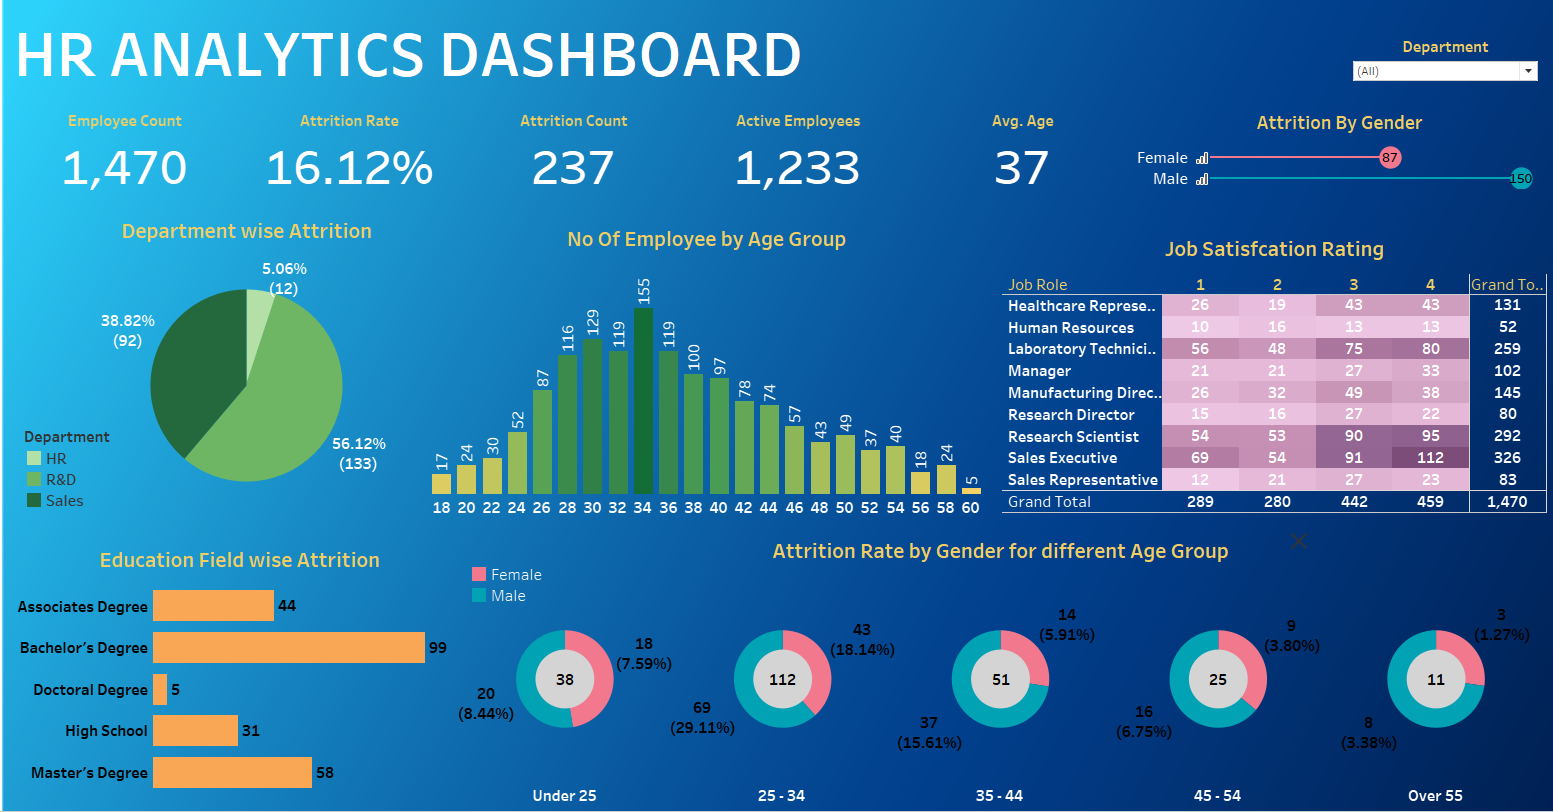

The page's visual inventory and layout, read from the dashboard file:
{"tool":"tableau","page":{"name":"HR ANALYTICS DASHBOARD","canvas":[1600,900],"ordinal":0},"visuals":[{"type":"image","param":"Image/blue bg.jpg","box":[8,8,1584,884]},{"type":"text","box":[30,36,915,59]},{"type":"filter","title":"Department wise Attrition","param":"[federated.13vzncc0yve2qy11549g20t2ub8v].[none:Department:nk]","box":[1370,50,191,63]},{"type":"worksheet","title":"Attrition By Gender","mark":"Automatic","rows":["Gender"],"cols":["Calculation_796855722364133376","Calculation_796855722364133376"],"box":[1150,120,419,83]},{"type":"worksheet","title":"KPI2","mark":"Automatic","box":[33,124,1122,92]},{"type":"worksheet","title":"Department wise Attrition","mark":"Pie","box":[34,227,465,302]},{"type":"worksheet","title":"No of emp by age group","mark":"Automatic","rows":["Employee Count"],"cols":["Age (bin)"],"box":[449,235,555,298]},{"type":"worksheet","title":"Job Satisfcation Rating","mark":"Square","rows":["Job Role"],"cols":["Job Satisfaction"],"box":[1022,245,545,282]},{"type":"legend","title":"Department wise Attrition","param":"[federated.13vzncc0yve2qy11549g20t2ub8v].[none:Department:nk]","box":[44,440,140,85]},{"type":"dashboard-object","box":[1307,543,24,24]},{"type":"worksheet","title":"Attrition Rate by Gender for different Age Group","mark":"Pie","rows":["Calculation_796855722394234885","Calculation_796855722394234885"],"cols":["CF_age band"],"box":[476,547,1089,274]},{"type":"worksheet","title":"Education Field wise Attrition","mark":"Automatic","rows":["Education"],"cols":["Calculation_796855722364133376"],"box":[33,556,453,251]},{"type":"legend","title":"Attrition Rate by Gender for different Age Group","param":"[federated.13vzncc0yve2qy11549g20t2ub8v].[none:Gender:nk]","box":[489,559,229,61]}]}

Visuals, with their boxes on the page's 1600x900 design canvas (x1, y1, x2, y2). These are canvas units, not pixel positions in the 1553x812 screenshot, which may show the page scaled, cropped or inside an application window:
image: bbox=(8, 8, 1592, 892)
text: bbox=(30, 36, 945, 95)
"Department wise Attrition" filter: bbox=(1370, 50, 1561, 113)
"Attrition By Gender" worksheet: bbox=(1150, 120, 1569, 203)
"KPI2" worksheet: bbox=(33, 124, 1155, 216)
"Department wise Attrition" worksheet (Pie marks): bbox=(34, 227, 499, 529)
"No of emp by age group" worksheet: bbox=(449, 235, 1004, 533)
"Job Satisfcation Rating" worksheet (Square marks): bbox=(1022, 245, 1567, 527)
"Department wise Attrition" legend: bbox=(44, 440, 184, 525)
dashboard-object: bbox=(1307, 543, 1331, 567)
"Attrition Rate by Gender for different Age Group" worksheet (Pie marks): bbox=(476, 547, 1565, 821)
"Education Field wise Attrition" worksheet: bbox=(33, 556, 486, 807)
"Attrition Rate by Gender for different Age Group" legend: bbox=(489, 559, 718, 620)
